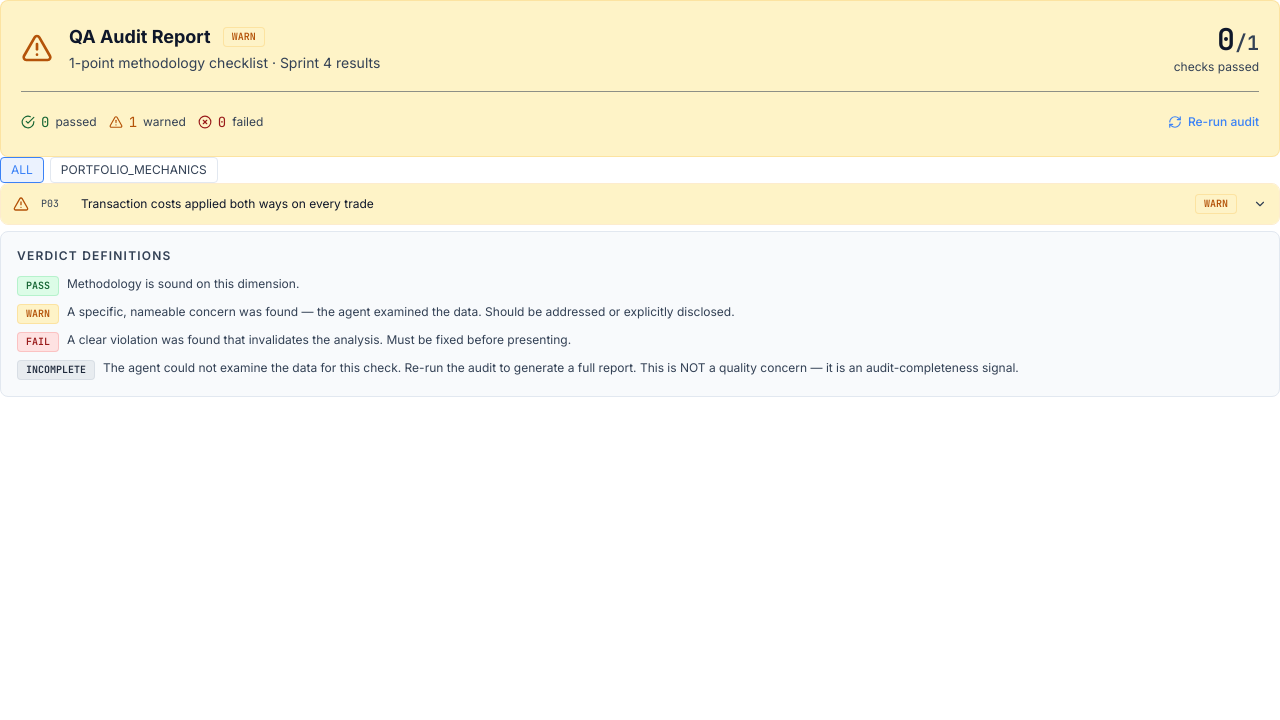
QAAuditPanel — Action Required card variants › Mark as Intentional POSTs the user-typed disclosure note via modal
Click the text "Transaction costs applied both ways on every trade" at (227, 204), box [81,196,374,211]
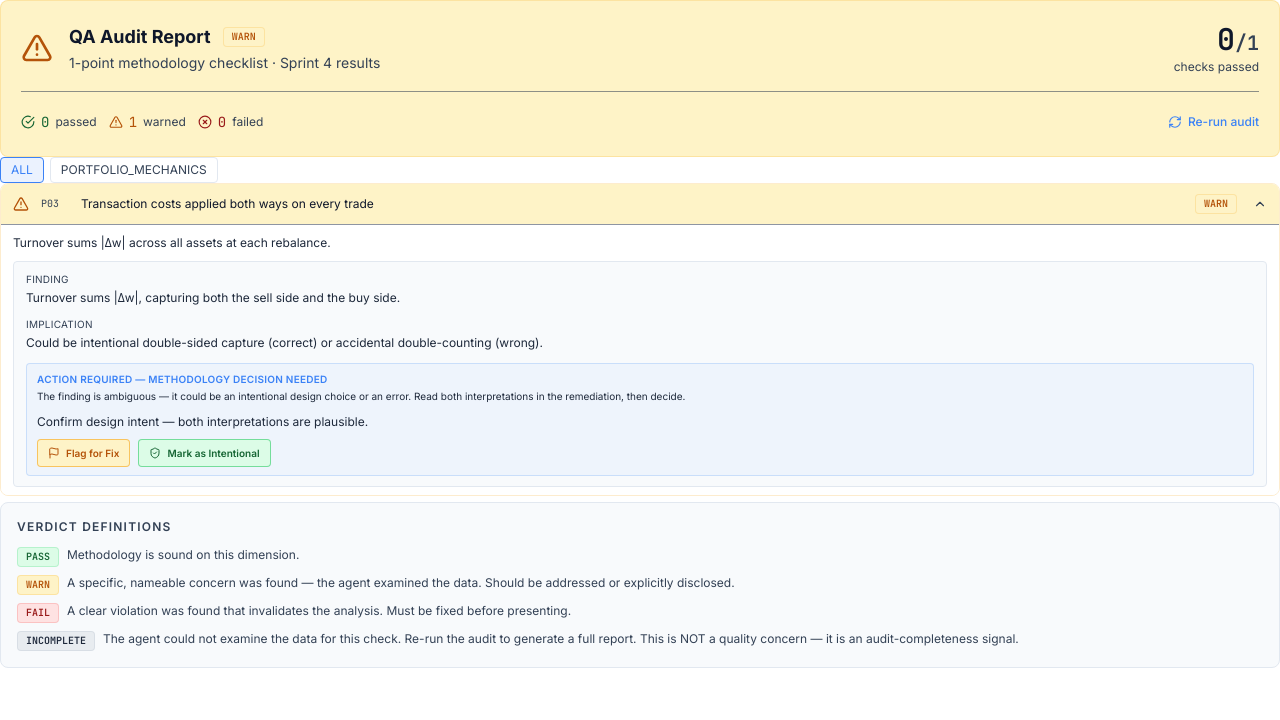
Click the button "Mark as Intentional" at (204, 453), box [138,439,270,467]
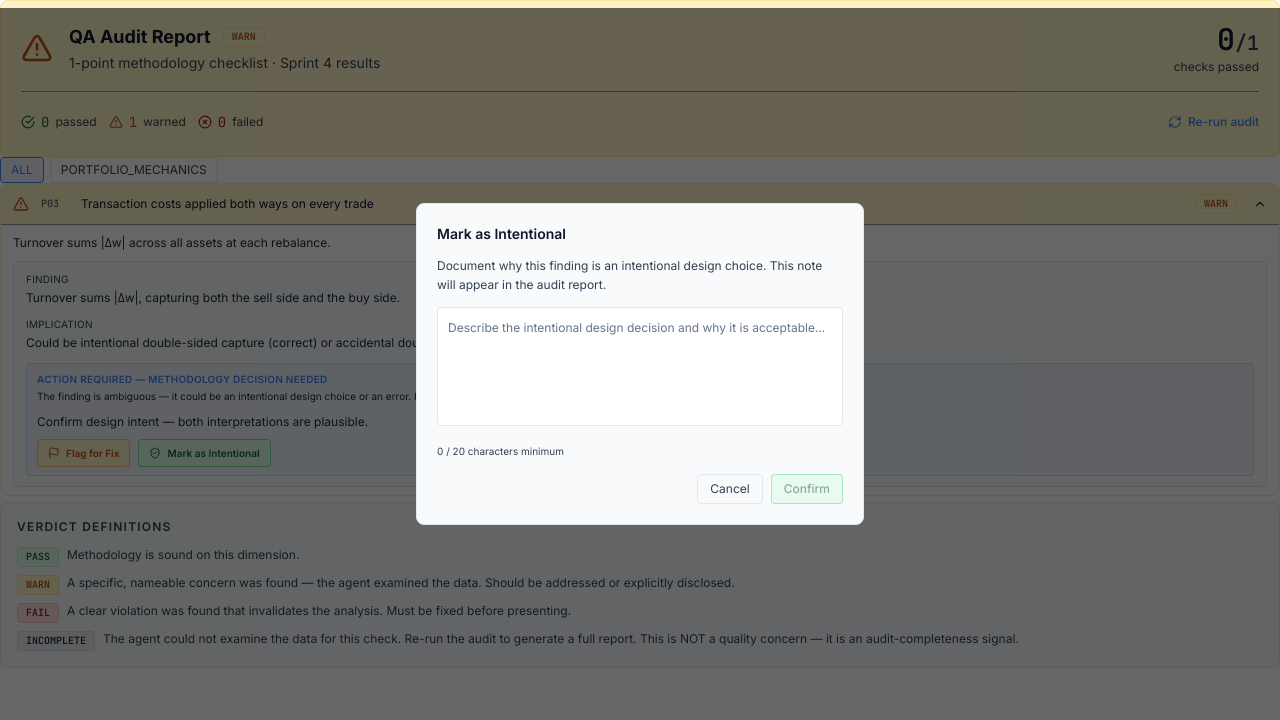
Short note keeps Confirm disabled.
Replace the text in the text box with "too short" at (640, 367), box [437,307,843,426]
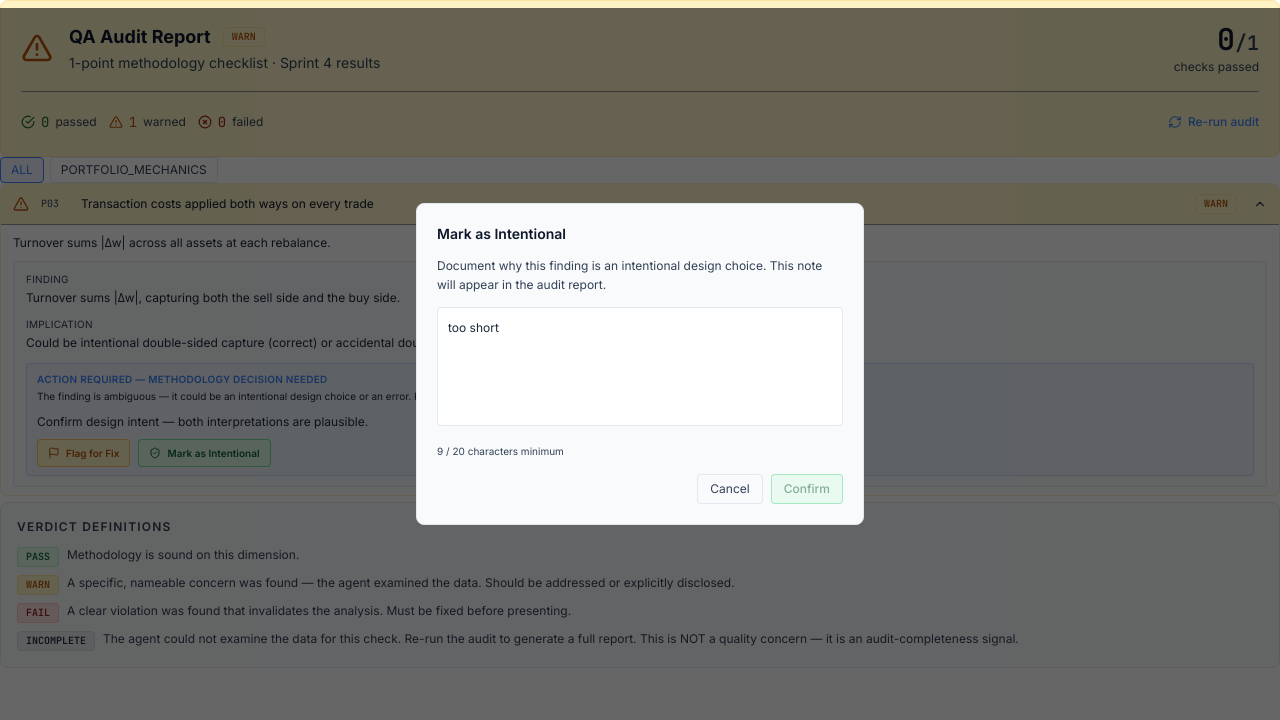
Replace the text in the text box with "Reviewed by Bob — this finding reflects intentional methodology." at (640, 367), box [437,307,843,426]
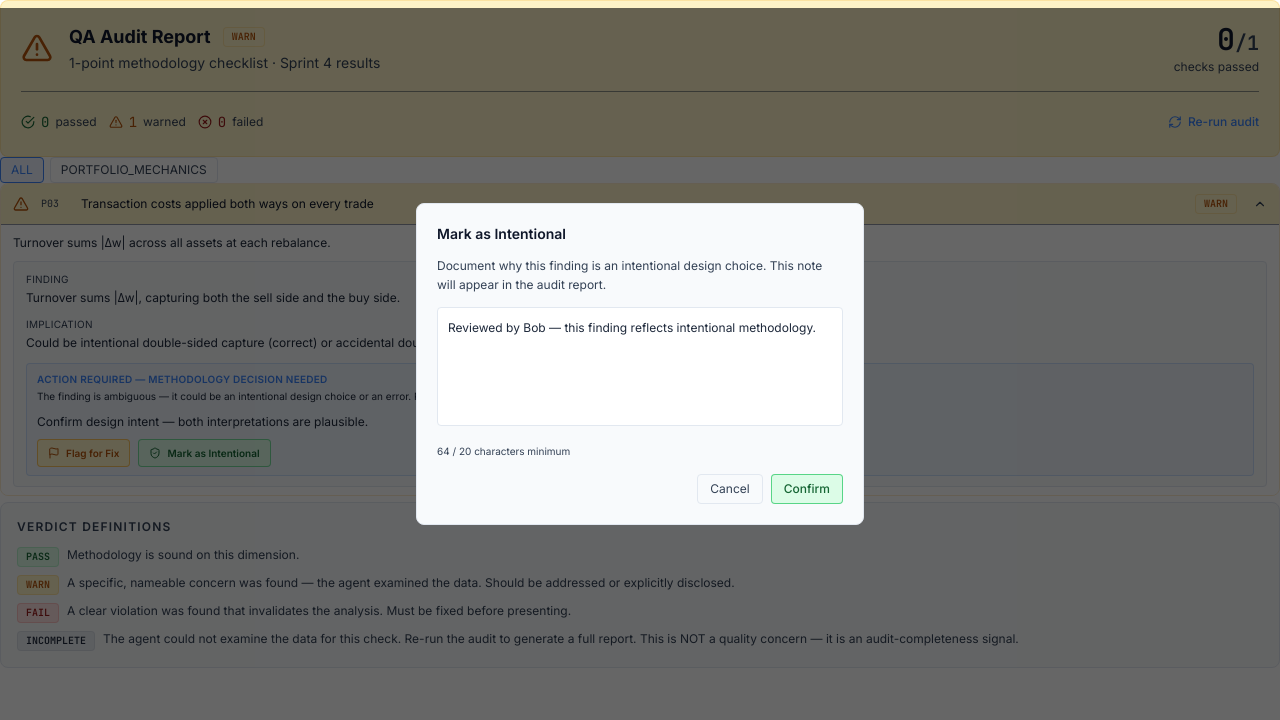
Click the button "Confirm" at (807, 489), box [771,474,843,504]
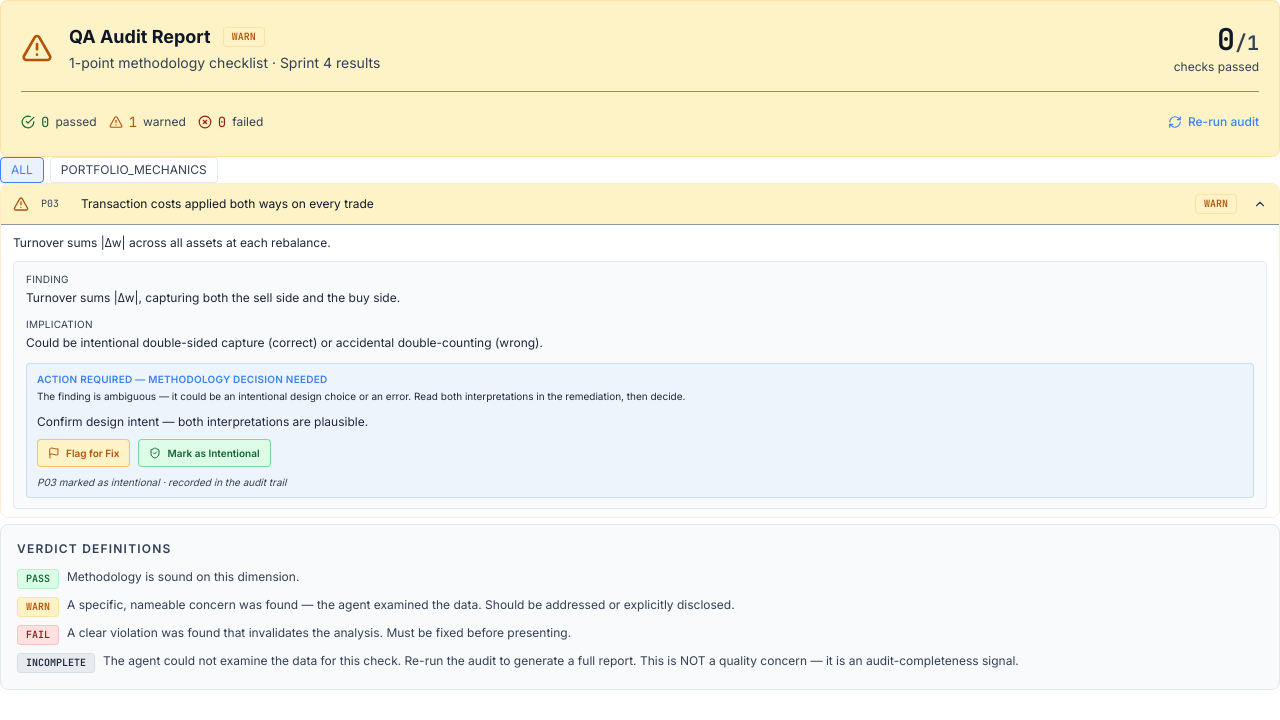
Result: the text "P03 marked as intentional · recorded in the audit trail" is shown at [37,476,286,488]
